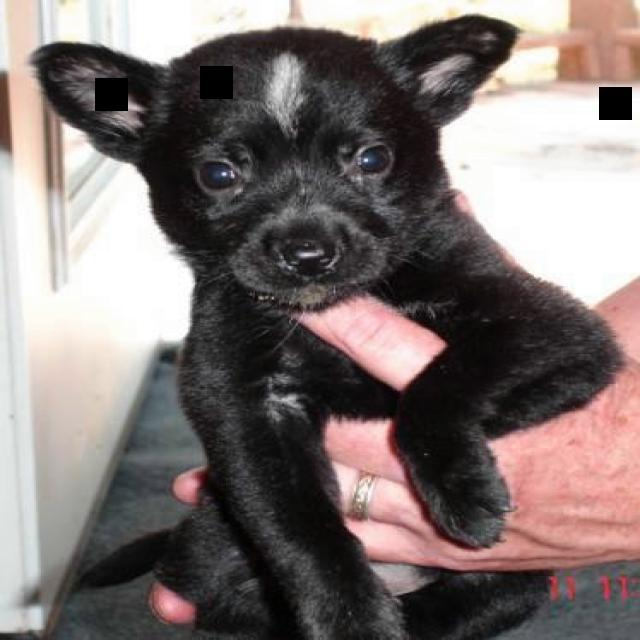puppy-dog: (27, 13, 622, 634)
